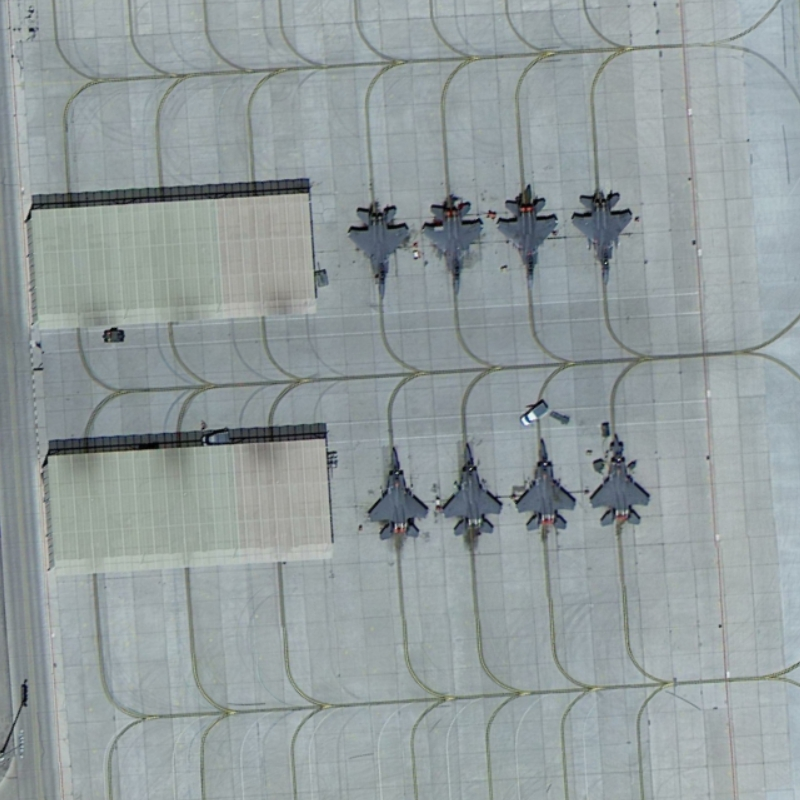A13: (341, 195, 415, 310), (418, 191, 493, 298), (511, 432, 582, 535), (568, 186, 638, 287), (492, 193, 564, 288), (363, 445, 432, 542), (441, 433, 504, 539), (589, 432, 653, 529)
